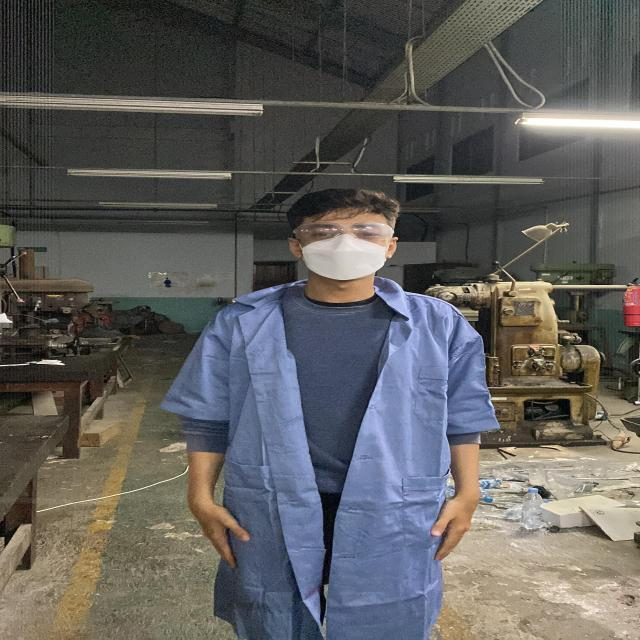glasses: (283, 220, 401, 243)
